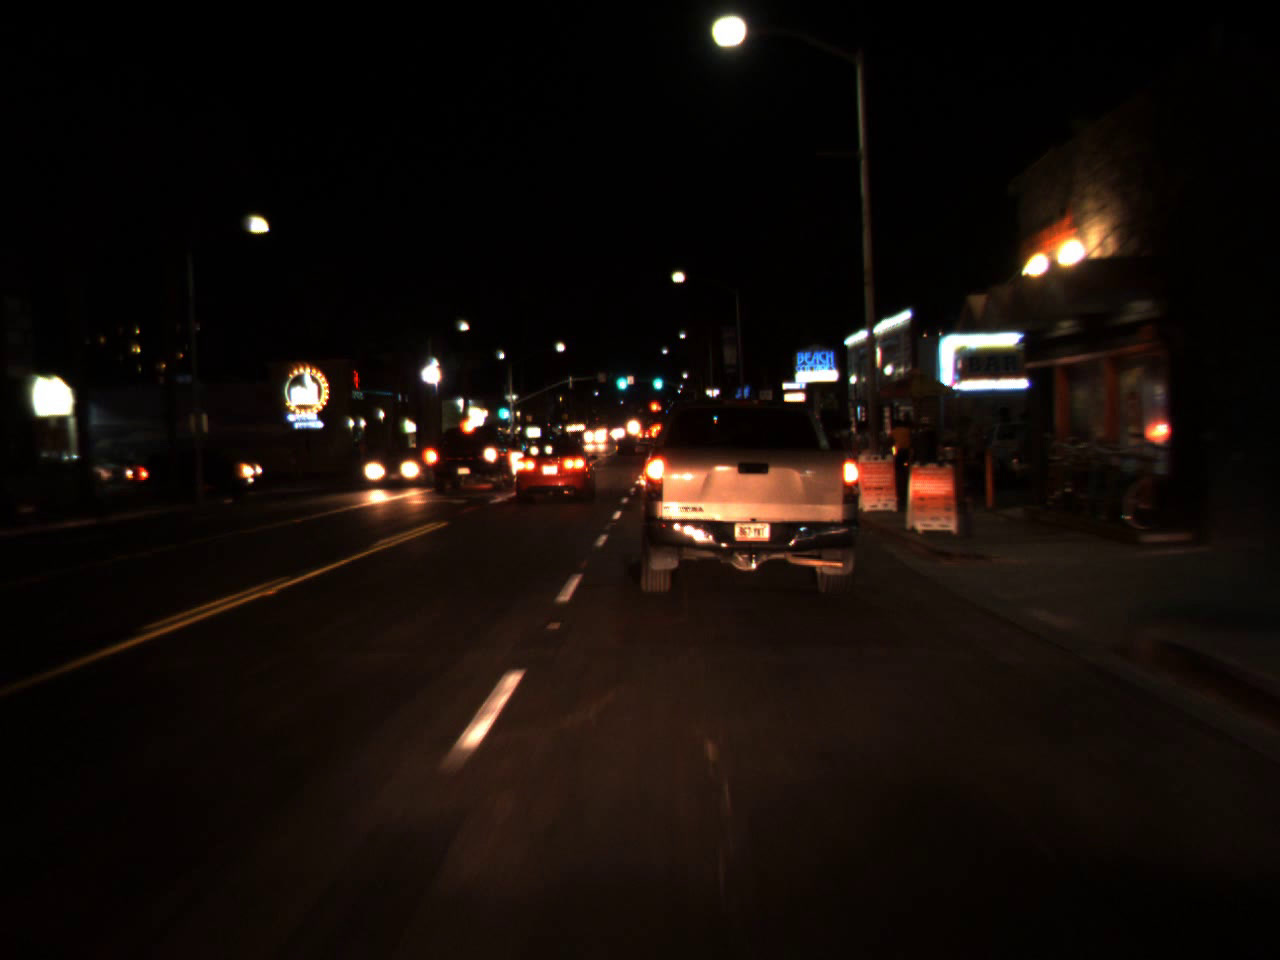go: (611, 361, 630, 394), (650, 365, 664, 392), (496, 395, 510, 422)
